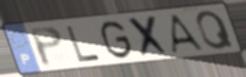A: (169, 13, 207, 56)
G: (100, 19, 135, 61)
L: (65, 25, 103, 63)
P: (26, 24, 65, 68)
Q: (194, 9, 236, 52)
X: (126, 13, 173, 60)
